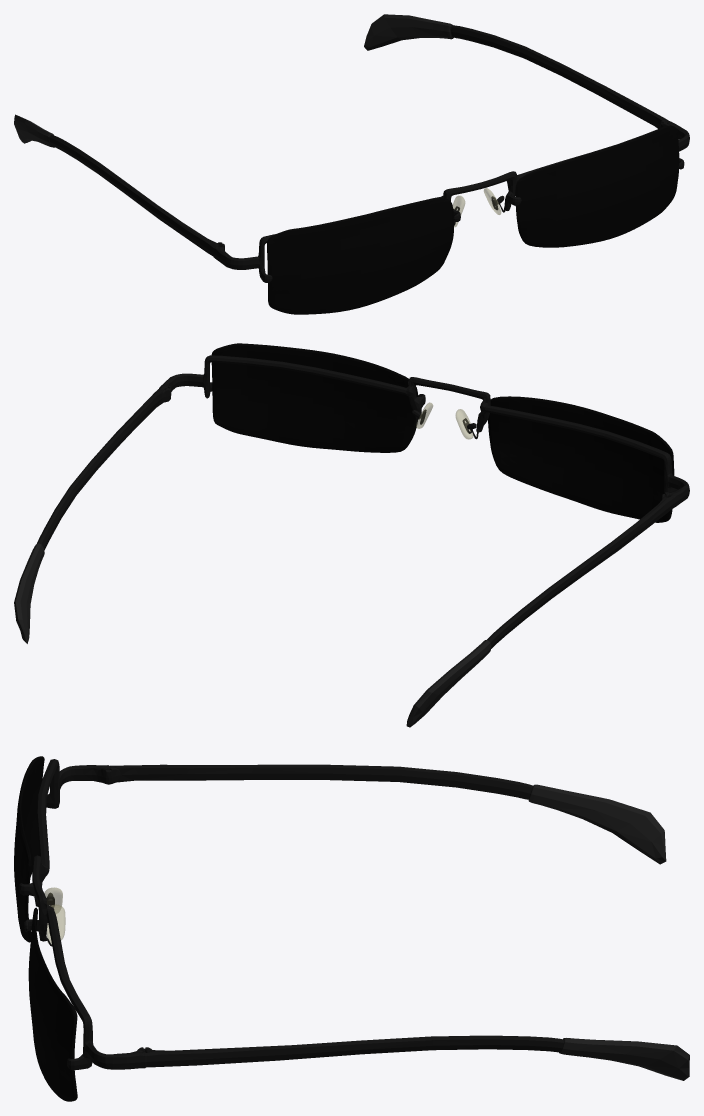
The model's file is glasses.obj.
3 renders of one model, top to bottom at view 1: azimuth 30°, elevation 25°; view 2: azimuth 150°, elevation 25°; view 3: azimuth 270°, elevation 25°, orthographic. The views are drawn at different scales.
Visible parts, largest first — view 1: rightlent_Plane.001, leftlent_Plane.002, body_Cube, leftside_Cube.010, rightside_Cube.009; view 2: leftlent_Plane.002, rightlent_Plane.001, body_Cube, rightside_Cube.009, leftside_Cube.010; view 3: body_Cube, leftlent_Plane.002, rightside_Cube.009, leftside_Cube.010, rightlent_Plane.001.
Part boxes in pixels (<box>): rightlent_Plane.001: <box>267,198,453,314</box>; leftlent_Plane.002: <box>515,125,679,247</box>; body_Cube: <box>49,25,689,282</box>; leftside_Cube.010: <box>364,14,452,50</box>; rightside_Cube.009: <box>14,114,54,147</box>; leftlent_Plane.002: <box>211,343,418,452</box>; rightlent_Plane.001: <box>488,396,674,522</box>; body_Cube: <box>37,355,689,648</box>; rightside_Cube.009: <box>406,640,491,727</box>; leftside_Cube.010: <box>14,543,44,643</box>; body_Cube: <box>19,759,564,1070</box>; leftlent_Plane.002: <box>28,907,77,1101</box>; rightside_Cube.009: <box>528,784,666,864</box>; leftside_Cube.010: <box>559,1038,689,1080</box>; rightlent_Plane.001: <box>14,756,44,942</box>.
Size of the model in its own units: 7.52 by 1.42 by 7.32.
